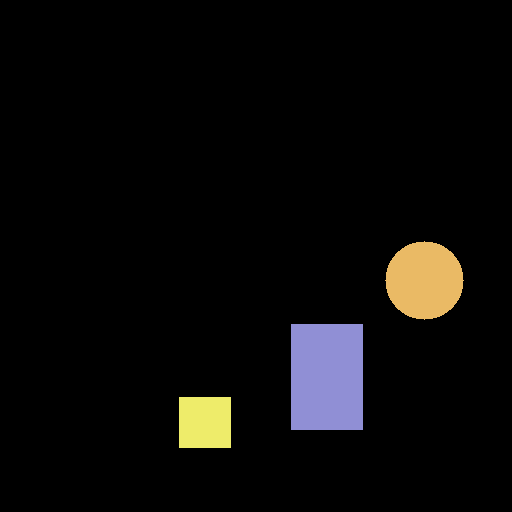circle: (385, 241, 463, 319)
rectangle: (291, 324, 362, 429)
square: (179, 397, 230, 447)
